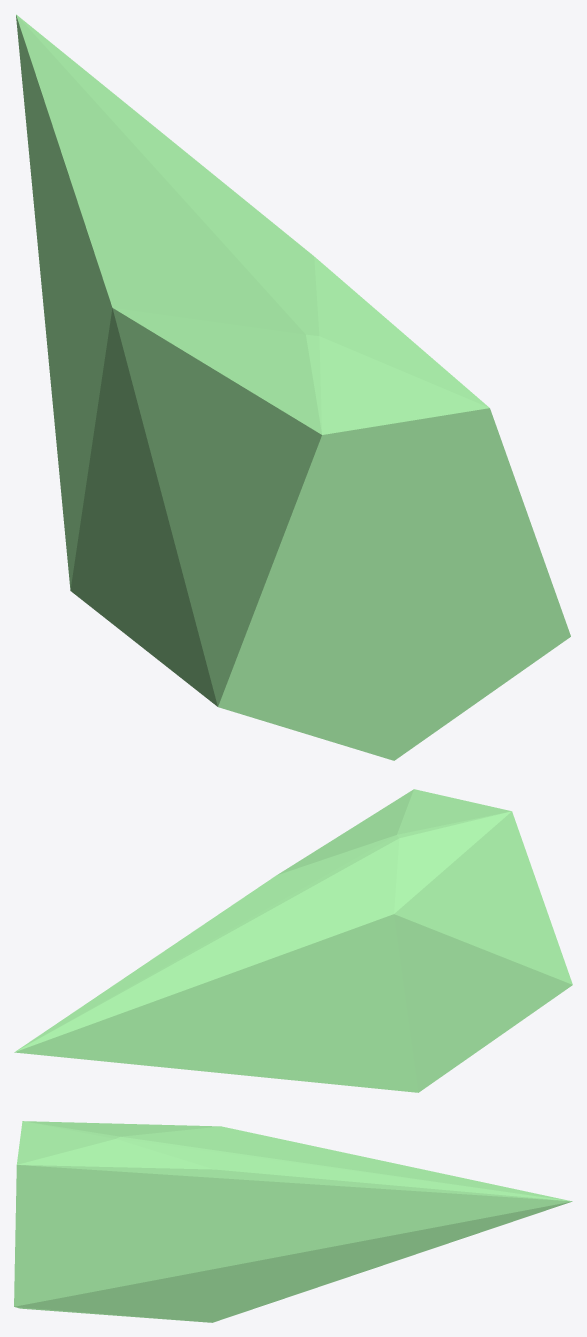
File: dxxx_L2_respondable_PSM1_coll_1.dae
3 views of the same model, one above another, from view 1: azimuth 30°, elevation 25°; view 2: azimuth 150°, elevation 25°; view 3: azimuth 270°, elevation 25° (orthographic). The views are drawn at different scales.
Parts seen in each view (by area): view 1: Node_000001D818CB9280; view 2: Node_000001D818CB9280; view 3: Node_000001D818CB9280.
Part boxes in pixels (x1,y1,x2,y2): Node_000001D818CB9280: [16, 14, 570, 760]; Node_000001D818CB9280: [14, 789, 572, 1092]; Node_000001D818CB9280: [14, 1121, 572, 1322].
Size of the model in its own units: 0.0101 by 0.00973 by 0.0282.
